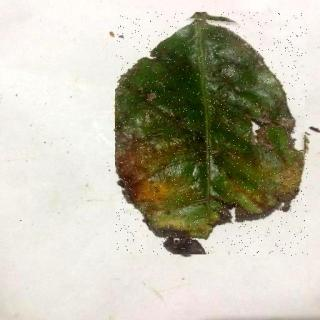Red Leaf Spot: (116, 14, 309, 258)
